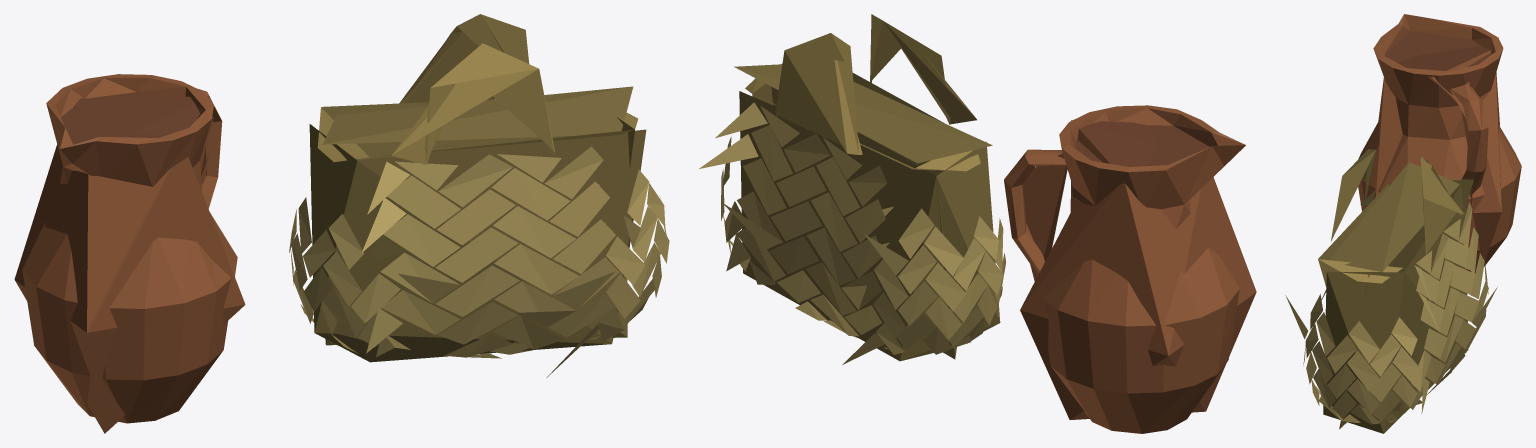
The model's file is pf_yard_jars.glb.
3 views of the same model, side by side, from view 1: azimuth 30°, elevation 25°; view 2: azimuth 150°, elevation 25°; view 3: azimuth 270°, elevation 25° (orthographic). The views are drawn at different scales.
Parts seen in each view (by area): view 1: body, body__far; view 2: body, body__far; view 3: body, body__far.
Part boxes in pixels (bbox=[...]): body: bbox=[22, 14, 669, 423]; body__far: bbox=[14, 32, 633, 433]; body: bbox=[699, 14, 1245, 433]; body__far: bbox=[721, 22, 1256, 419]; body: bbox=[1285, 14, 1521, 433]; body__far: bbox=[1321, 46, 1501, 429].
Bounding box in the file's own units: 0.666 × 0.3579 × 0.3093.
